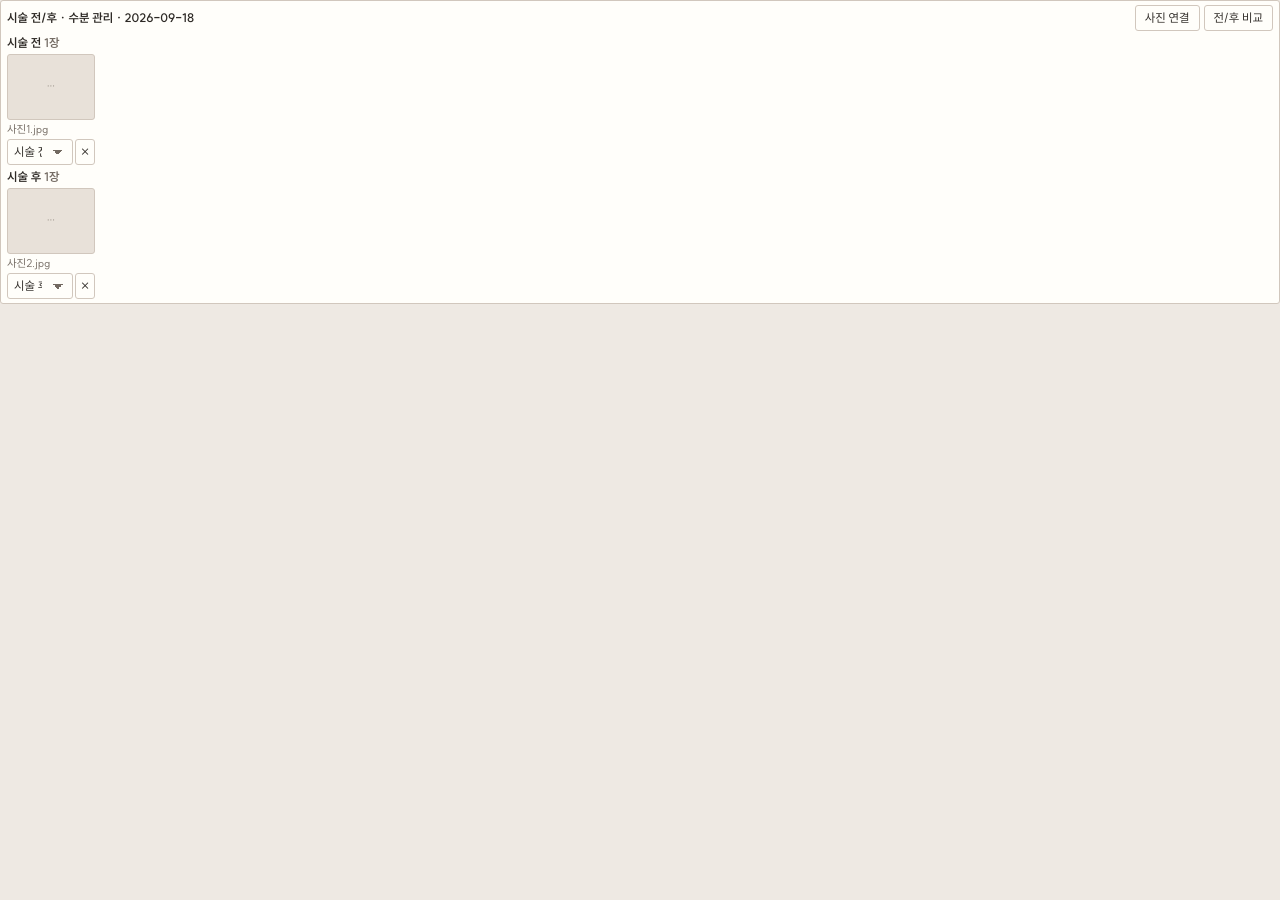
PhotoCompare · 전/후 비교 › 사진을 불러오지 못하면 틀 안에 안내한다
Expected: the element named "시술 전 사진" is shown, left=7, top=35, right=95, bottom=165
Click the button "전/후 비교".
click(1238, 18)  # box left=1204, top=5, right=1273, bottom=31
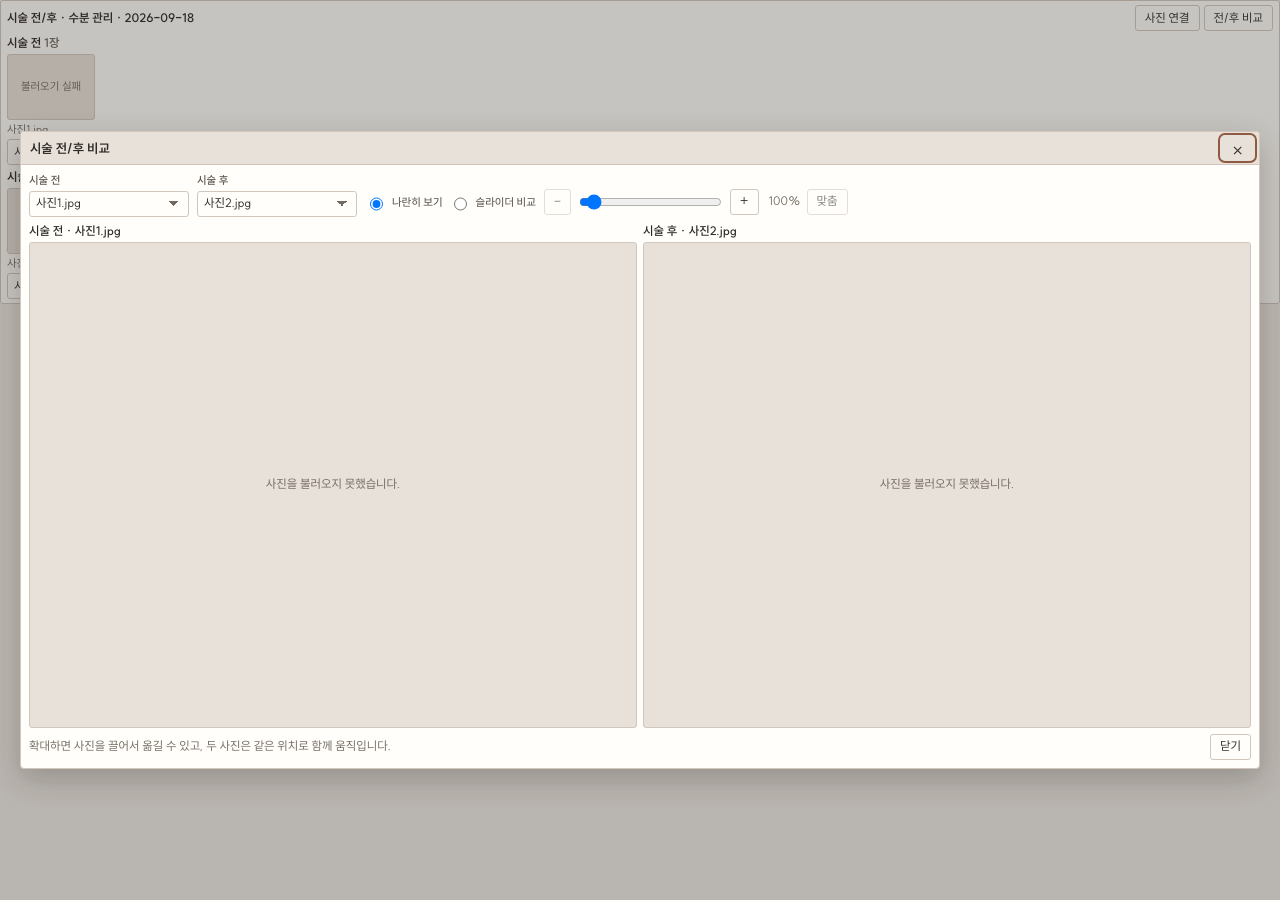
Expected: the text "사진을 불러오지 못했습니다." below "시술 전 ·" is shown, left=266, top=476, right=400, bottom=491
